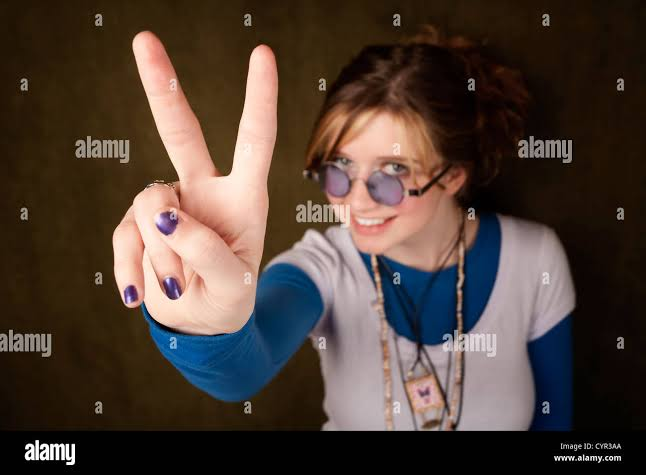peace_sign: (109, 21, 290, 328)
